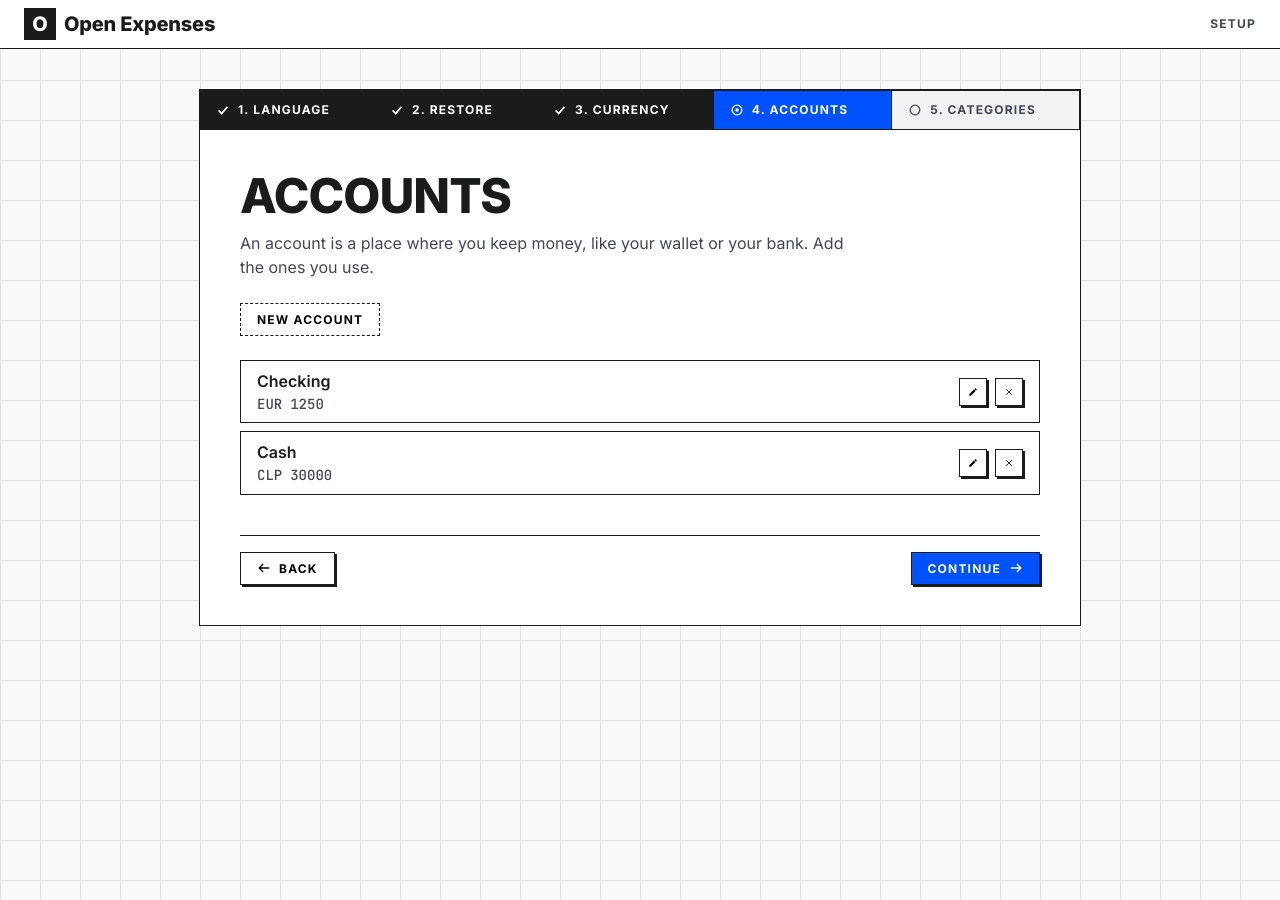
Scenario: OnboardingComponent › discards inline edit changes from the X without touching the staged row
Click the button named "Edit account" in the row of "Checking".
click(973, 392)  # box [959,378,987,406]
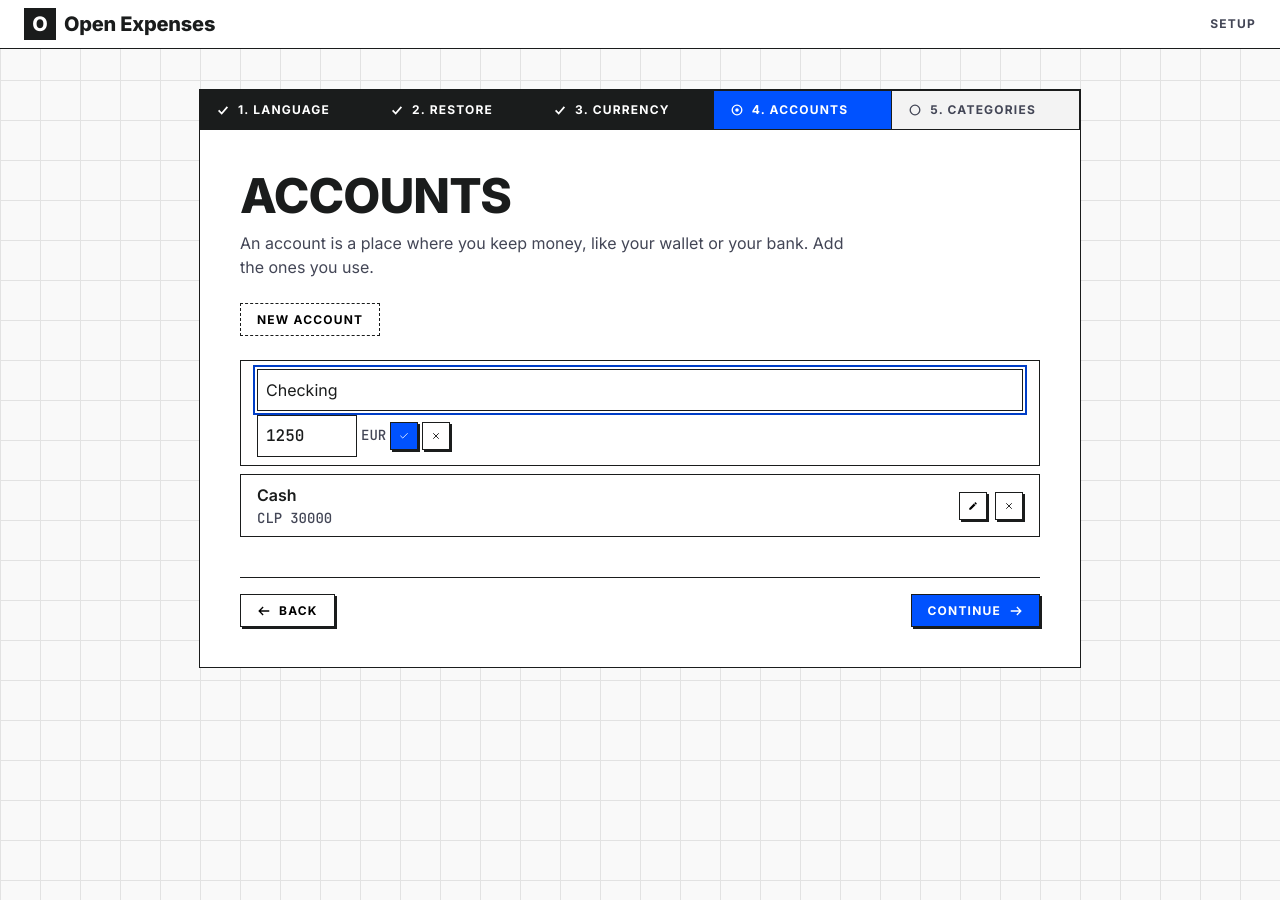
Replace the text in the field named "Account name" with "Wallet" at (640, 390), box [257,369,1023,411]
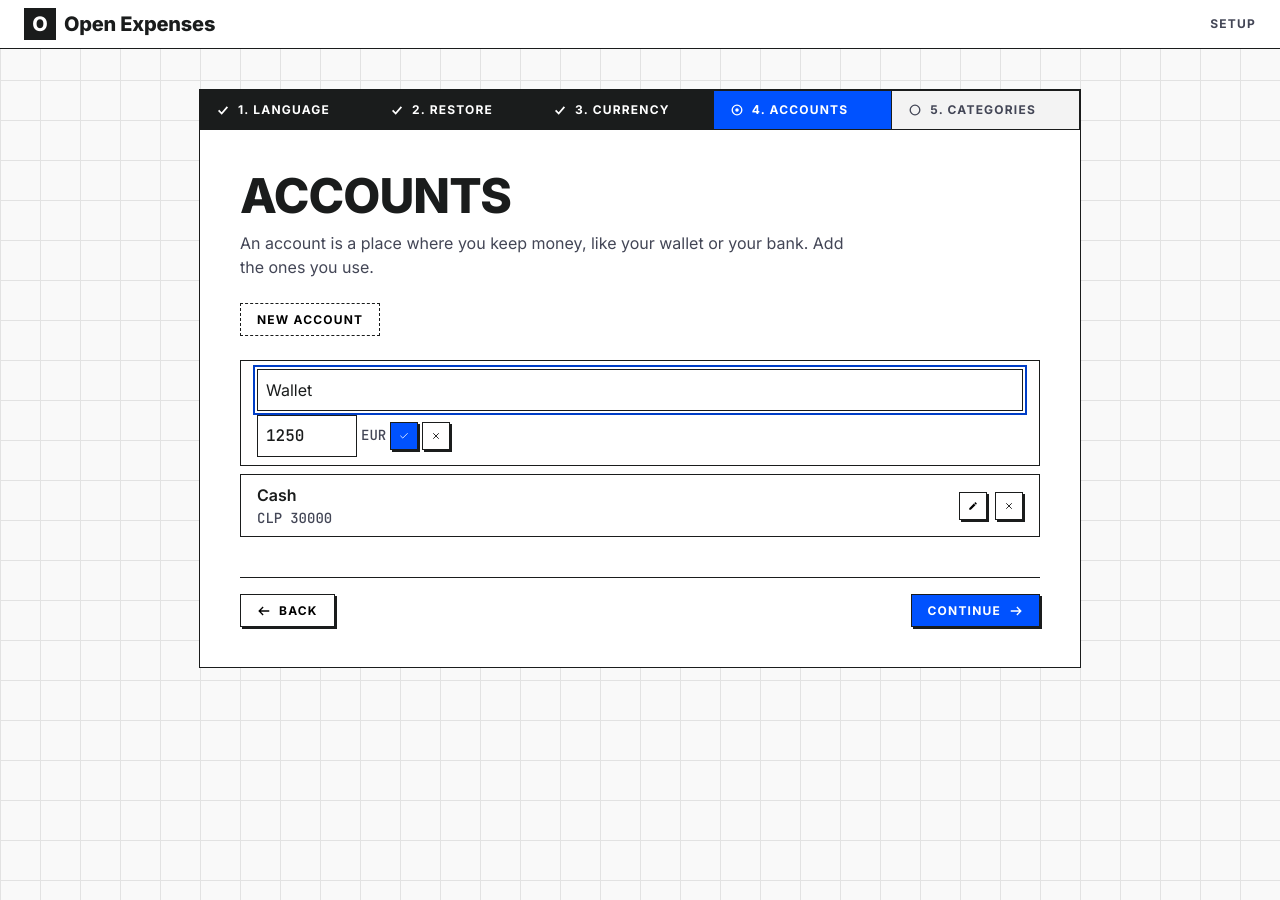
Click the button named "Discard changes".
click(436, 436)  # box [422,422,450,450]
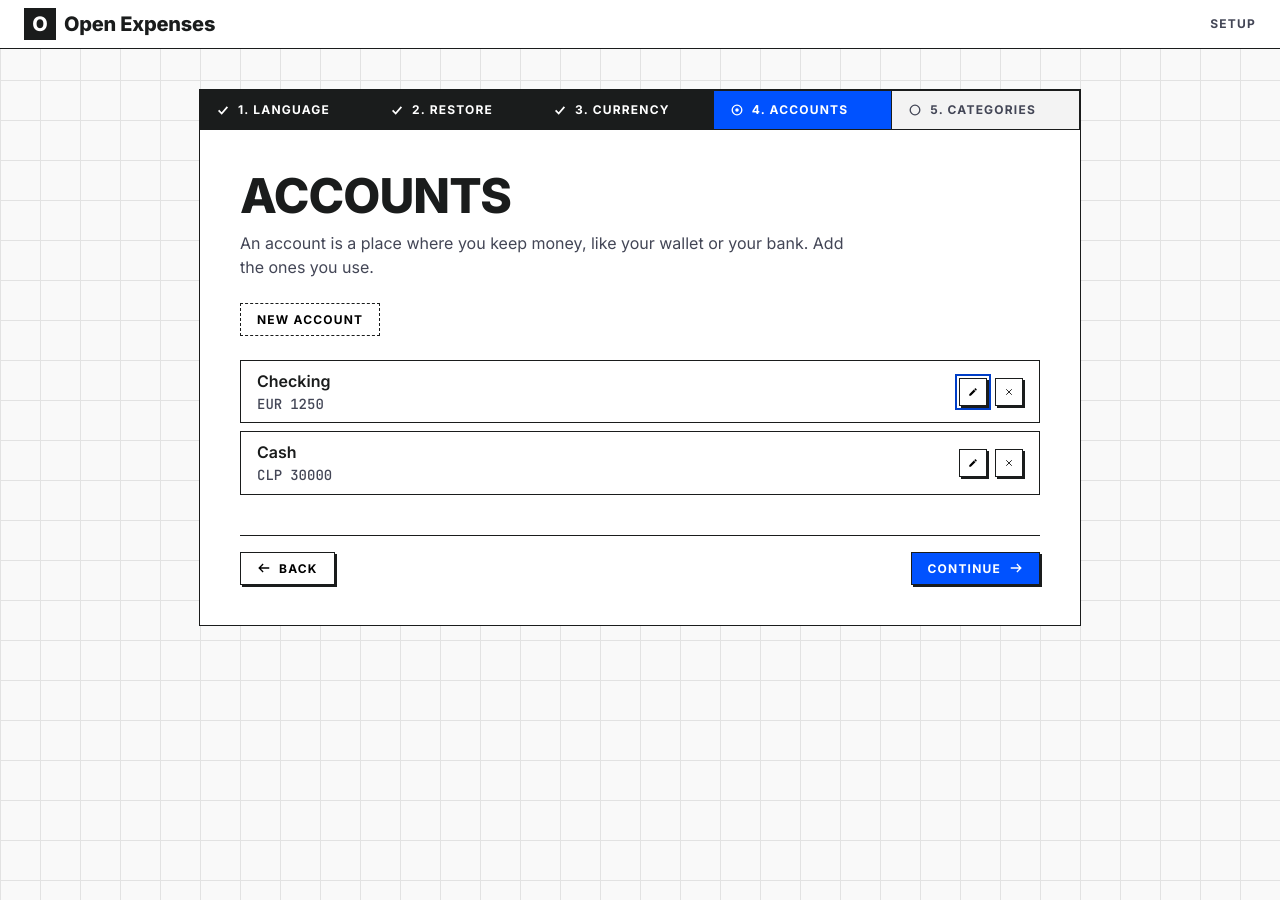
Check: the text "Checking" is shown, box [257,369,330,393]
Check: the element with class "edit-state" is gone
